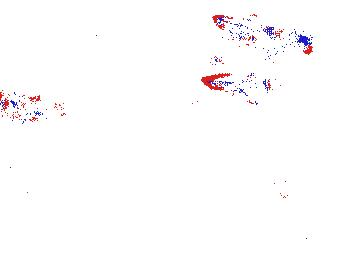X-ray fish: (1, 83, 64, 126), (127, 19, 165, 65)
red belly glassfish: (218, 31, 259, 48), (299, 33, 315, 56)
redtail glassfish: (202, 73, 276, 104), (208, 52, 285, 81), (213, 12, 282, 44)
